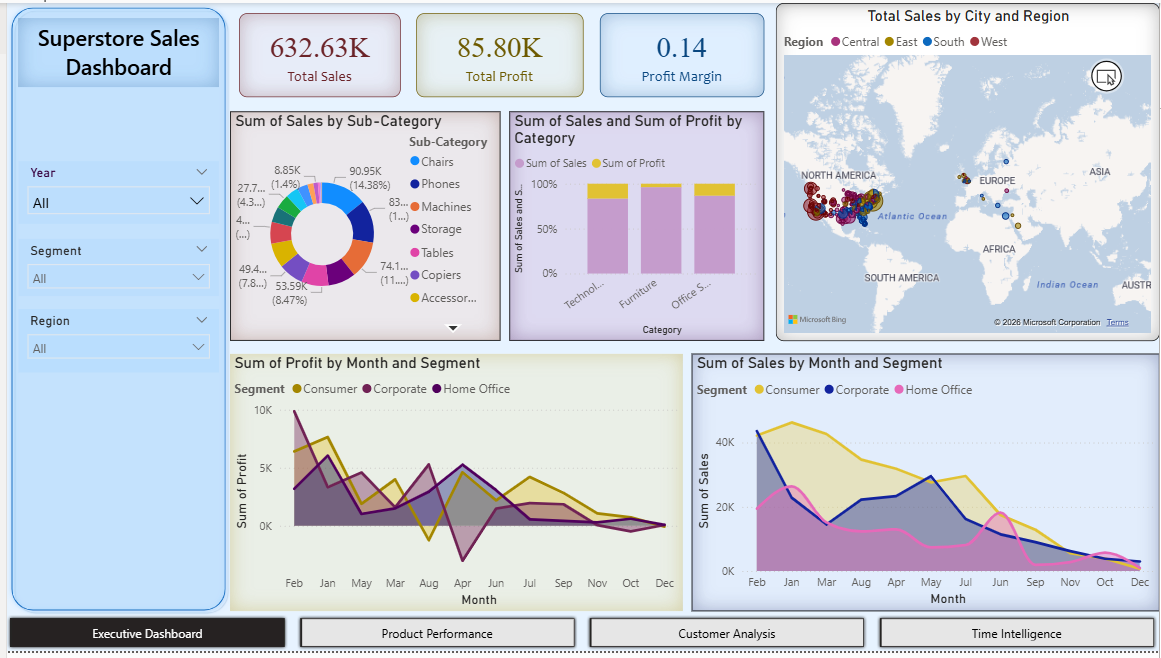

This screenshot's page, from the dashboard's own definition file:
{"tool":"powerbi","page":{"name":"Executive Dashboard","canvas":[1280,720],"ordinal":0},"visuals":[{"type":"card","fields":{"Values":["DateTable.Total Sales"]},"box":[257.8,11.3,179.9,93.5],"z":0},{"type":"card","fields":{"Values":["DateTable.Total Profit"]},"box":[454.8,11.3,185.6,93.5],"z":1000},{"type":"card","fields":{"Values":["DateTable.Profit Margin"]},"box":[658.8,11.3,182.8,93.5],"z":2000},{"type":"map","fields":{"Size":["DateTable.Total Sales"],"Series":["Sample - Superstore.Region"],"Category":["Sample - Superstore.City","Sample - Superstore.Country"]},"box":[854.3,0,426.4,375.4],"z":3000},{"type":"shape","box":[0,0,247.9,680],"z":4000},{"type":"slicer","fields":{"Values":["DateTable.Year"]},"box":[12.8,175.7,222.4,69.4],"z":5000},{"type":"pageNavigator","box":[0,680,1280.7,39.7],"z":6000},{"type":"textbox","box":[12.8,17,222.4,76.5],"z":7000},{"type":"slicer","fields":{"Values":["Sample - Superstore.Segment"]},"box":[12.8,262.1,222.4,63.8],"z":8000},{"type":"slicer","fields":{"Values":["Sample - Superstore.Region"]},"box":[12.8,340,222.4,70.8],"z":9000},{"type":"lineChart","fields":{"Category":["DateTable.Month"],"Y":["Sum(Sample - Superstore.Sales)"],"Series":["Sample - Superstore.Segment"]},"box":[760.8,389.6,519.9,286.2],"z":10000},{"type":"donutChart","fields":{"Category":["Sample - Superstore.Sub-Category"],"Y":["Sum(Sample - Superstore.Sales)"]},"box":[247.9,120.4,300.3,255],"z":11000},{"type":"hundredPercentStackedColumnChart","fields":{"Category":["Sample - Superstore.Category"],"Y":["Sum(Sample - Superstore.Sales)","Sum(Sample - Superstore.Profit)"]},"box":[558.2,120.4,283.3,255],"z":12000},{"type":"lineChart","fields":{"Category":["DateTable.Month"],"Y":["Sum(Sample - Superstore.Profit)"],"Series":["Sample - Superstore.Segment"]},"box":[247.9,389.6,502.9,286.2],"z":13000}]}

Visuals, with their boxes in screenshot pixels (x1, y1, x2, y2), scaled from the page's 1280x720 canvas onto the 1161x658 screenshot:
card - DateTable.Total Sales: x1=234 y1=10 x2=397 y2=96
card - DateTable.Total Profit: x1=413 y1=10 x2=581 y2=96
card - DateTable.Profit Margin: x1=598 y1=10 x2=763 y2=96
map - DateTable.Total Sales x Sample - Superstore.Region: x1=775 y1=0 x2=1160 y2=343
shape: x1=0 y1=0 x2=225 y2=621
slicer - DateTable.Year: x1=12 y1=161 x2=213 y2=224
pageNavigator: x1=0 y1=621 x2=1160 y2=657
textbox: x1=12 y1=16 x2=213 y2=85
slicer - Sample - Superstore.Segment: x1=12 y1=240 x2=213 y2=298
slicer - Sample - Superstore.Region: x1=12 y1=311 x2=213 y2=375
lineChart - DateTable.Month x Sum(Sample - Superstore.Sales): x1=690 y1=356 x2=1160 y2=618
donutChart - Sample - Superstore.Sub-Category x Sum(Sample - Superstore.Sales): x1=225 y1=110 x2=497 y2=343
hundredPercentStackedColumnChart - Sample - Superstore.Category x Sum(Sample - Superstore.Sales): x1=506 y1=110 x2=763 y2=343
lineChart - DateTable.Month x Sum(Sample - Superstore.Profit): x1=225 y1=356 x2=681 y2=618
